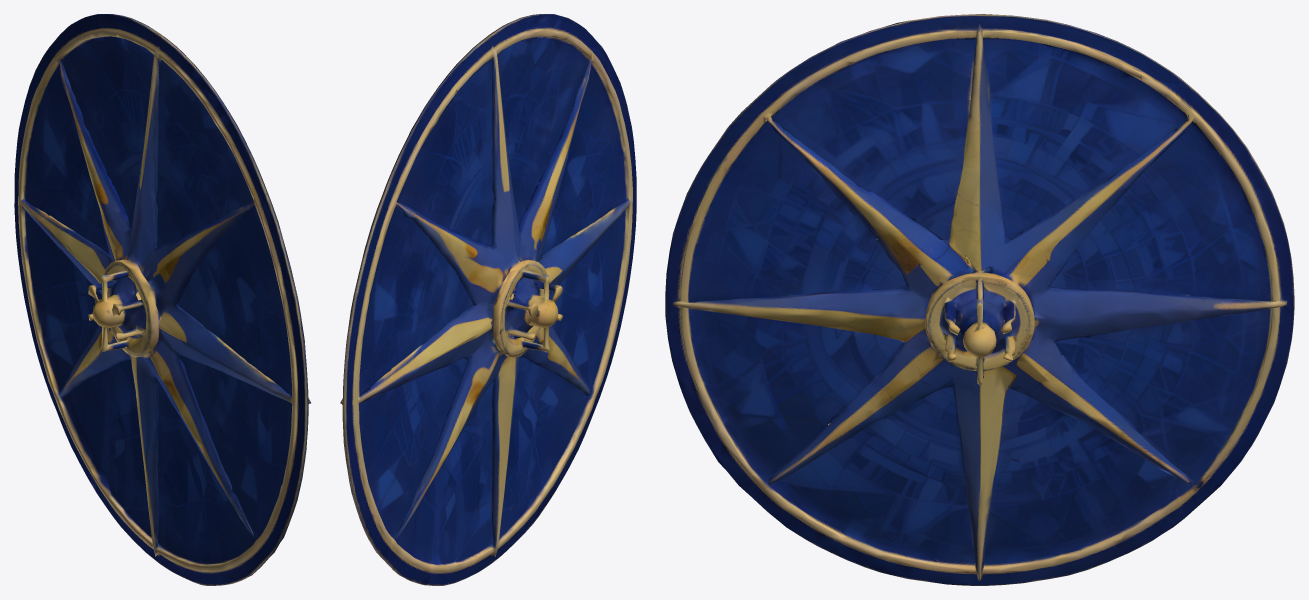
File: au_furn_rug_celestial.glb
The picture shows the model from 3 angles, left to right: view 1: azimuth 30°, elevation 25°; view 2: azimuth 150°, elevation 25°; view 3: azimuth 270°, elevation 25°; orthographic projection. The views are drawn at different scales.
Visible parts, largest first — view 1: tripo_node_465046a0-549a-4ab6-99e2-c1c5234d16dc; view 2: tripo_node_465046a0-549a-4ab6-99e2-c1c5234d16dc; view 3: tripo_node_465046a0-549a-4ab6-99e2-c1c5234d16dc.
Part boxes in pixels (<box>): tripo_node_465046a0-549a-4ab6-99e2-c1c5234d16dc: <box>14,14,310,585</box>; tripo_node_465046a0-549a-4ab6-99e2-c1c5234d16dc: <box>340,14,636,585</box>; tripo_node_465046a0-549a-4ab6-99e2-c1c5234d16dc: <box>665,14,1294,585</box>.
Bounding box in the file's own units: 0.3144 × 1 × 0.9991.
Materials: 1 (1 with a texture image).
